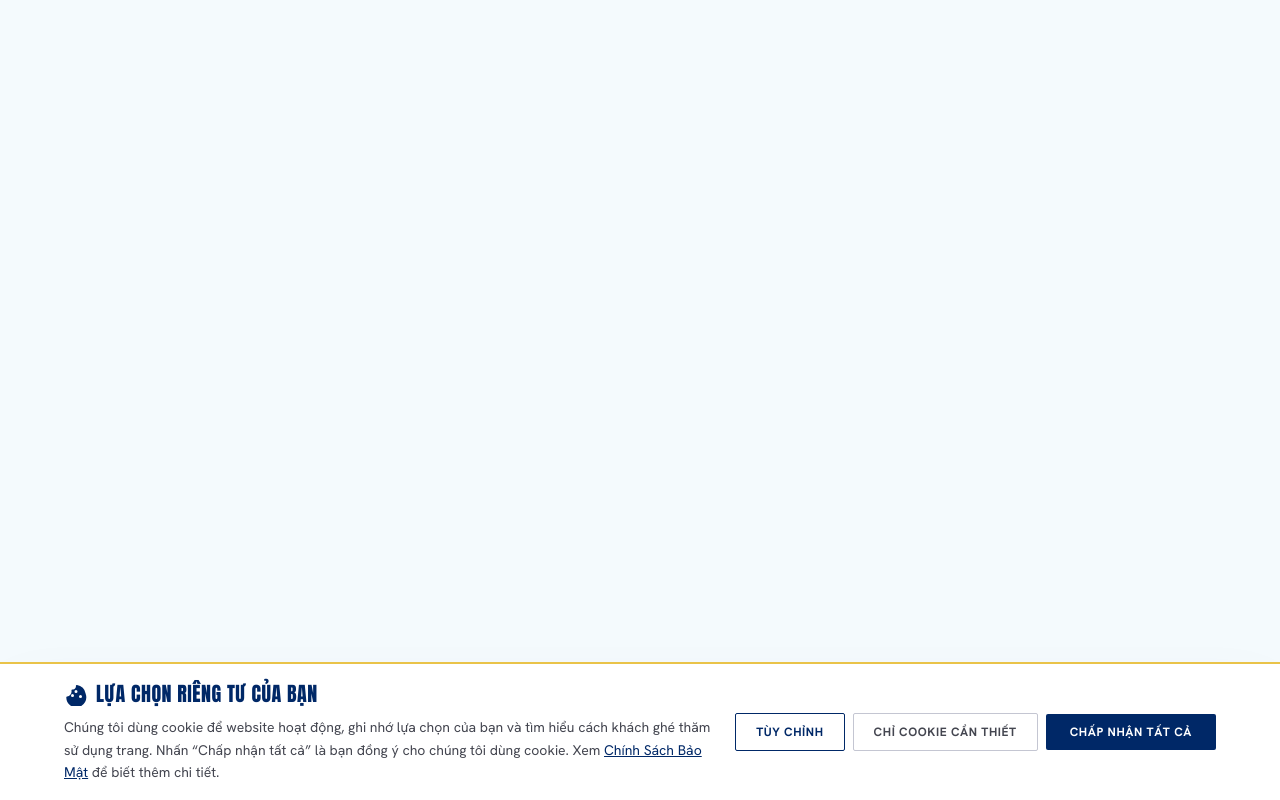
CookieConsent Component › localization › renders the Vietnamese essential description in the modal
Step 1. Click the button "Tùy Chỉnh" → (790, 732), box [735, 713, 845, 751]
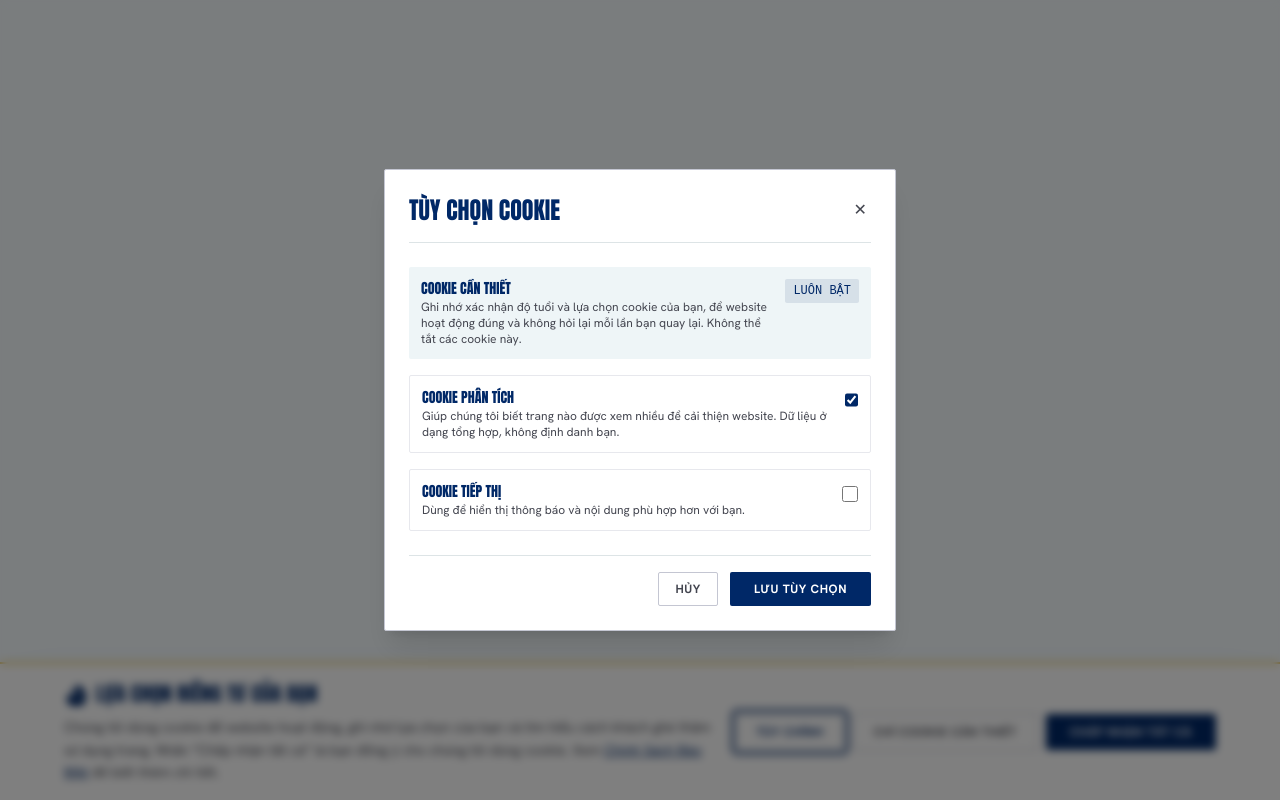
Expected: the dialog shows "xác nhận độ tuổi", [421, 299, 767, 347]
Expected: the dialog shows "không thể tắt", [421, 299, 767, 347]
Expected: the text "Luôn Bật" is shown, [785, 279, 859, 303]
